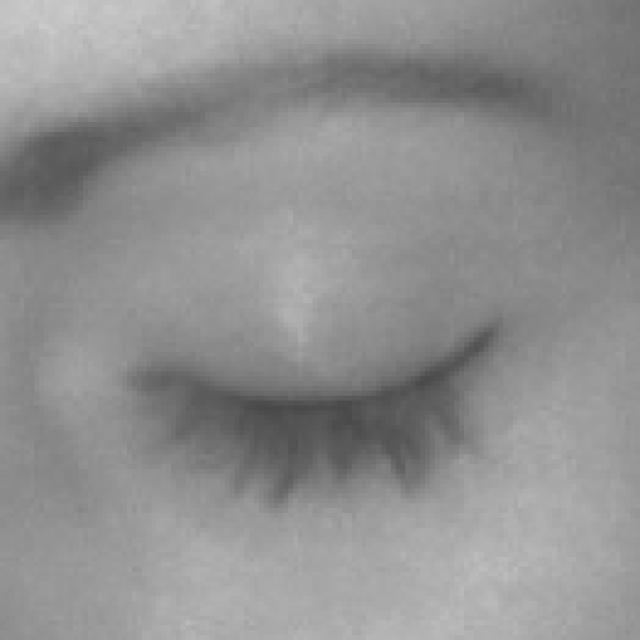Eyeclosed: (163, 205, 518, 556)
